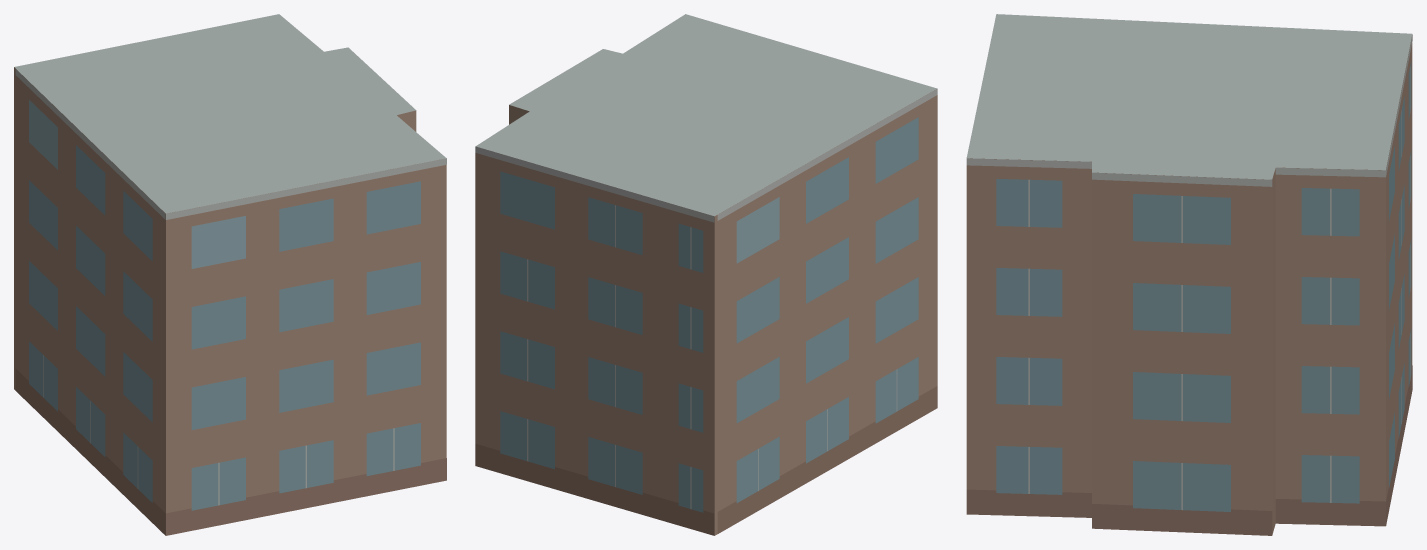
File: survey-upis-32668345.glb
3 renders of one model, left to right at view 1: azimuth 30°, elevation 25°; view 2: azimuth 150°, elevation 25°; view 3: azimuth 270°, elevation 25°, orthographic. The views are drawn at different scales.
Parts seen in each view (by area): view 1: survey-upis-32668345.tmp; view 2: survey-upis-32668345.tmp; view 3: survey-upis-32668345.tmp.
Part boxes in pixels (x1,y1,x2,y2): survey-upis-32668345.tmp: [14, 14, 446, 535]; survey-upis-32668345.tmp: [475, 14, 937, 535]; survey-upis-32668345.tmp: [966, 14, 1412, 535].
Bounding box in the file's own units: 12.19 × 12.2 × 13.85.
